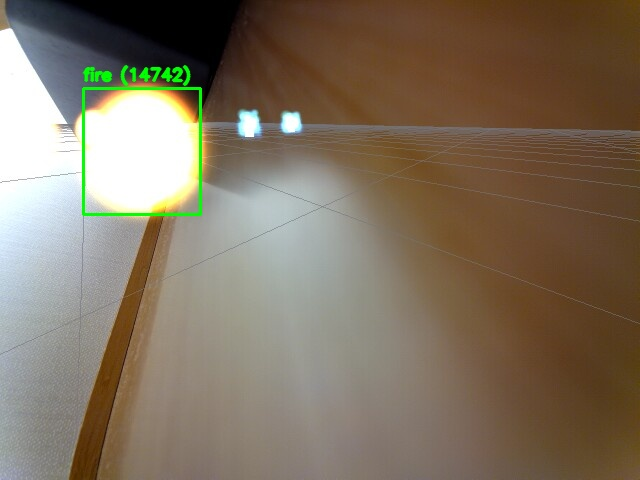fire: (83, 88, 200, 214)
